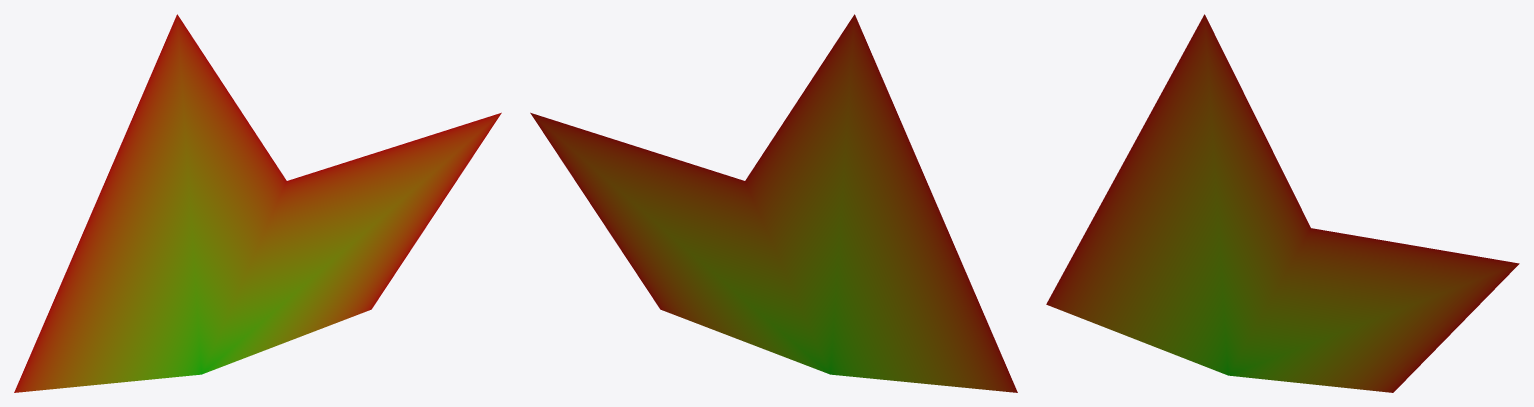
Rendered from Var12_LOD3.fbx.
The picture shows the model from 3 angles, left to right: view 1: azimuth 30°, elevation 25°; view 2: azimuth 150°, elevation 25°; view 3: azimuth 330°, elevation 25°; orthographic projection. The views are drawn at different scales.
Parts seen in each view (by area): view 1: _if2y_Var12_LOD3; view 2: _if2y_Var12_LOD3; view 3: _if2y_Var12_LOD3.
Boxes of the visible parts, x1=… form: _if2y_Var12_LOD3: x1=14, y1=14, x2=501, y2=392; _if2y_Var12_LOD3: x1=530, y1=14, x2=1017, y2=392; _if2y_Var12_LOD3: x1=1046, y1=14, x2=1519, y2=392.
Size of the model in its own units: 22.39 by 16.07 by 0.
